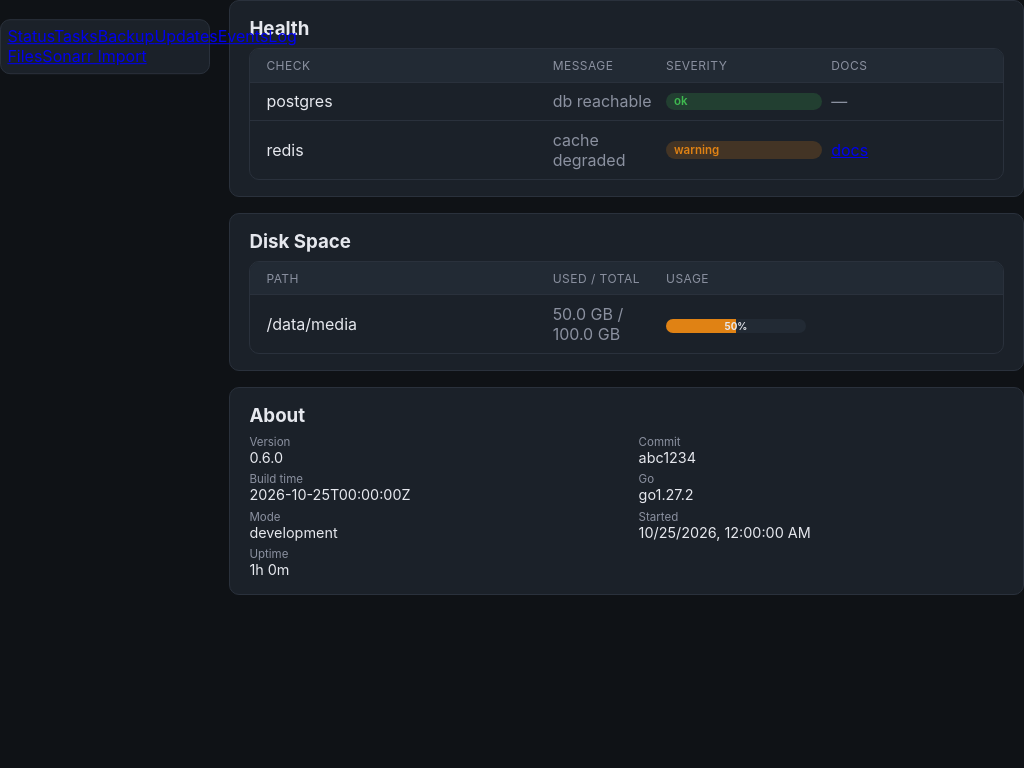
Test: System page — nav + Status sub-page › navigates to the Tasks sub-page and renders the worker inventory
The width and height of the screenshot is (1024, 768).
Click the link with test id "system-nav-tasks": (76, 37) [54, 27, 98, 47]
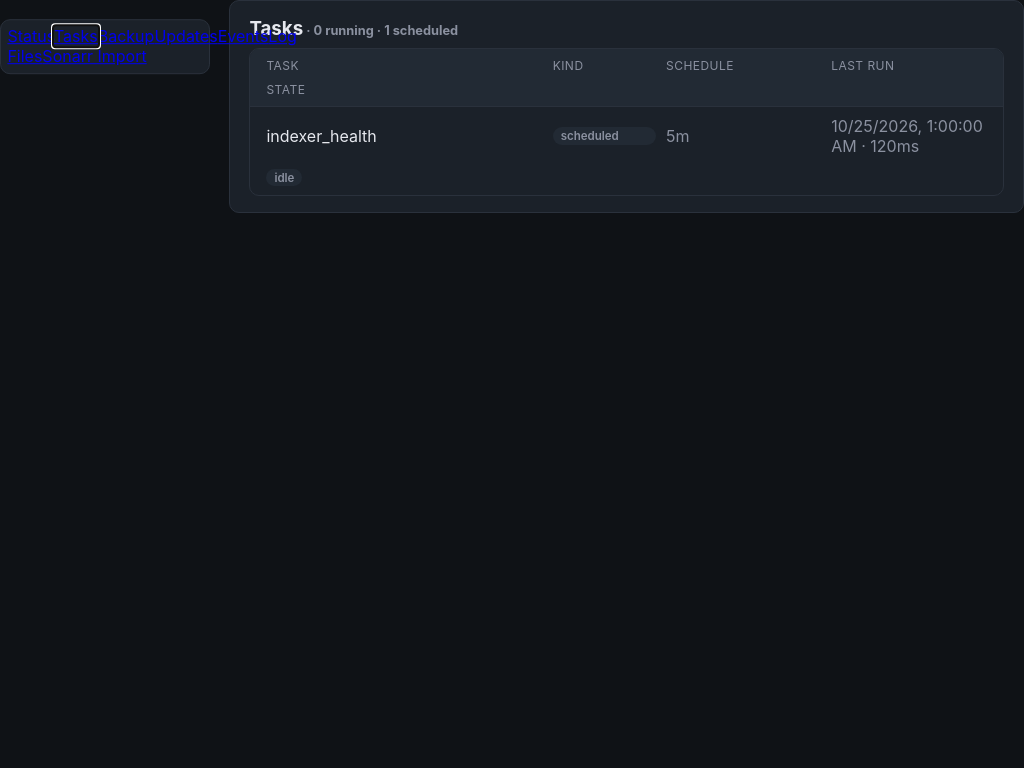
Expected: the element with test id "task-row-indexer_health" is shown, [250, 107, 1003, 195]
Expected: the element with test id "system-tasks" shows "0 running", [229, 0, 1023, 213]
Expected: the element with test id "system-tasks" shows "1 scheduled", [229, 0, 1023, 213]
